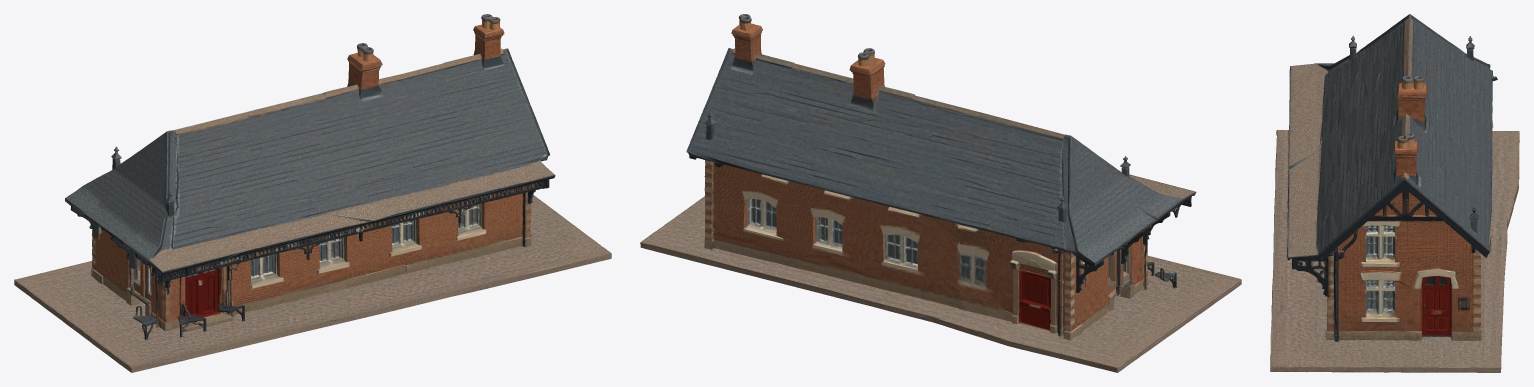
Rendered from station.hq.glb.
3 renders of one model, left to right at view 1: azimuth 30°, elevation 25°; view 2: azimuth 150°, elevation 25°; view 3: azimuth 270°, elevation 25°, orthographic.
Visible parts, largest first — view 1: placed; view 2: placed; view 3: placed.
Part boxes in pixels (box(x1,y1,x2,y2)): placed: box(14, 14, 611, 372); placed: box(640, 14, 1241, 372); placed: box(1270, 14, 1519, 372).
Bounding box in the file's own units: 30.09 × 12.41 × 13.33.
Materials: 1 (1 with a texture image).
